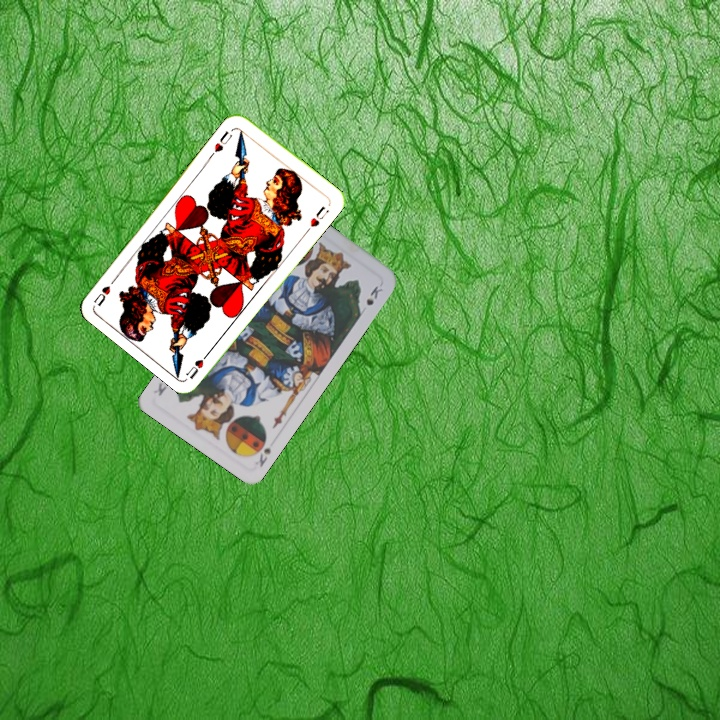HU: (182, 346, 213, 381), (210, 127, 235, 155)
SK: (249, 443, 274, 470)
